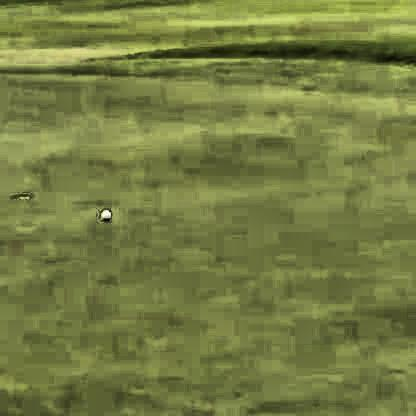golfball: (97, 206, 111, 220)
